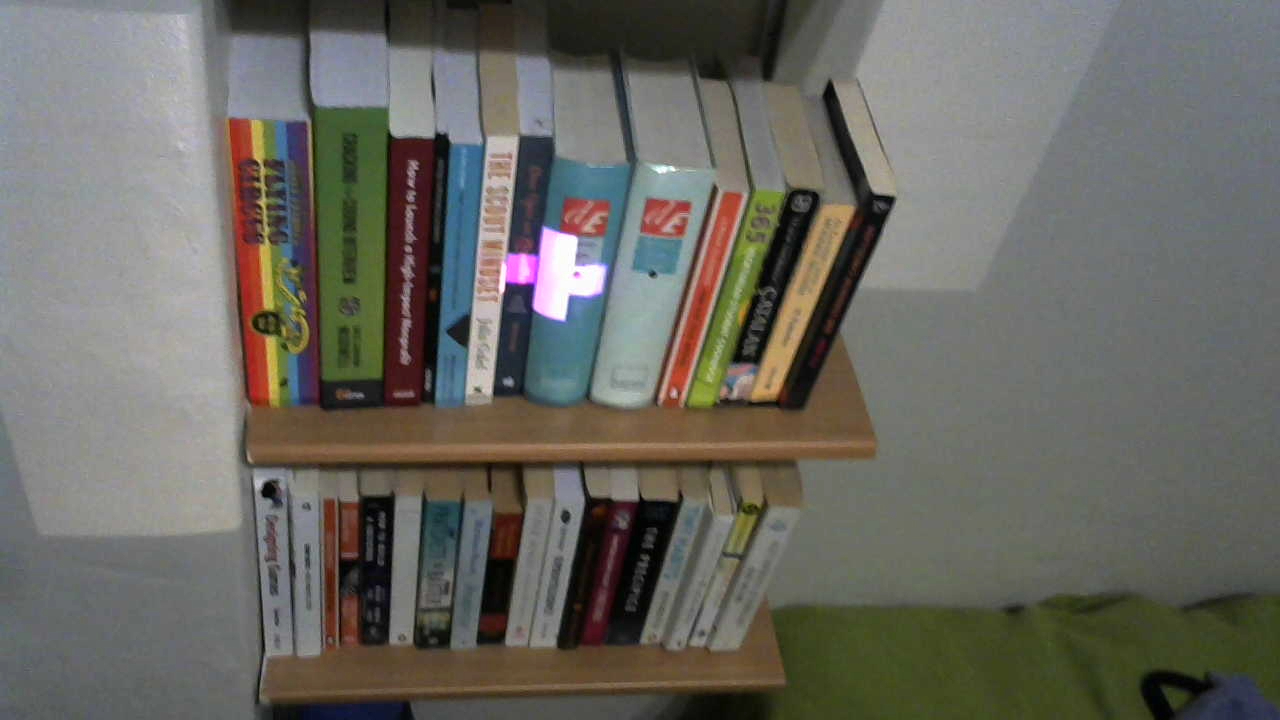calibration_symbol: (504, 225, 606, 320)
